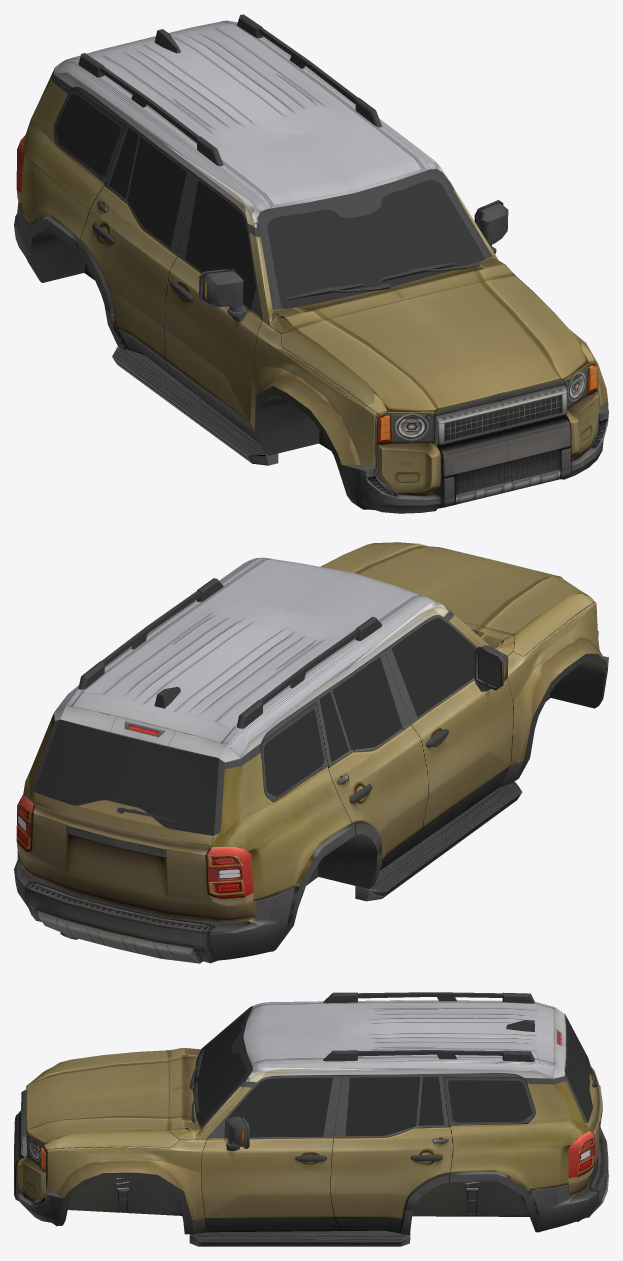
The model's file is car 17.fbx.
The picture shows the model from 3 angles, top to bottom: view 1: azimuth 30°, elevation 25°; view 2: azimuth 150°, elevation 25°; view 3: azimuth 270°, elevation 25°; orthographic projection. The views are drawn at different scales.
Visible parts, largest first — view 1: car_17; view 2: car_17; view 3: car_17.
Part boxes in pixels (x1,y1,x2,y2): car_17: (14,14,608,513); car_17: (14,542,608,963); car_17: (14,992,608,1246).
Bounding box in the file's own units: 185 × 139 × 420.
